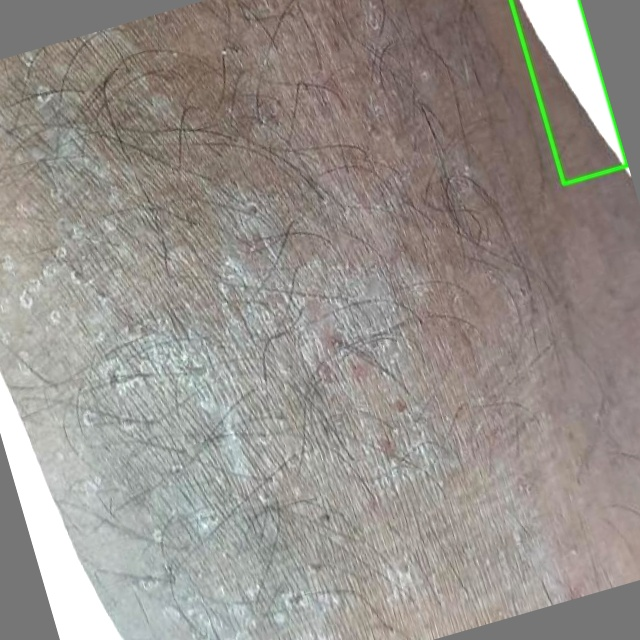Contact Dermatitis: (511, 0, 627, 184)
